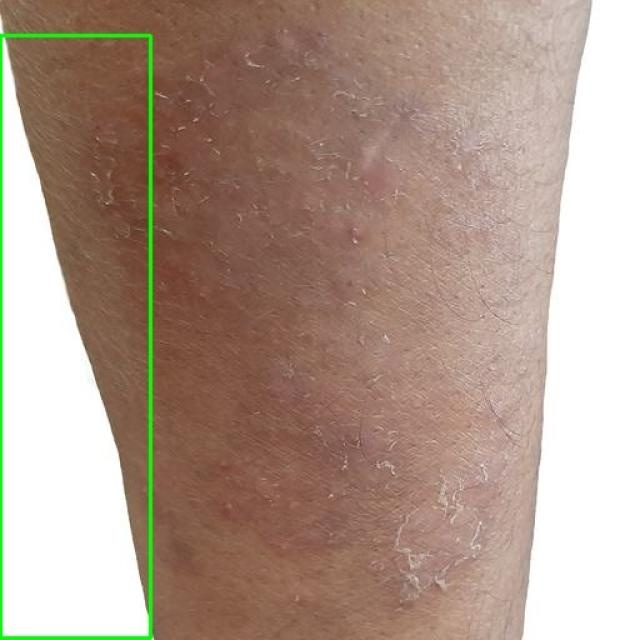Tinea Corporis: (0, 35, 151, 639)
